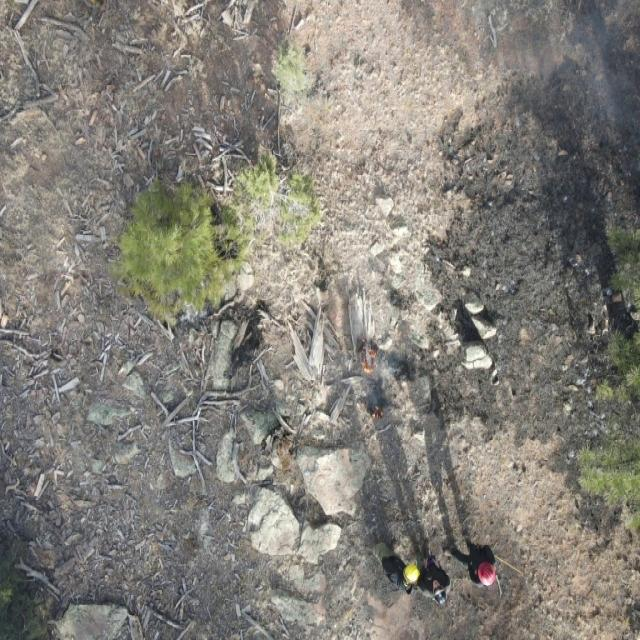fire: (354, 334, 382, 378), (358, 400, 388, 420)
smoke: (282, 232, 418, 430), (497, 0, 640, 138)
